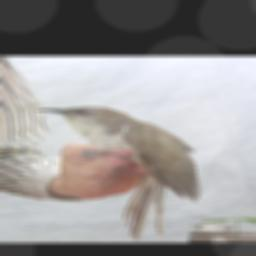Cuckoo: (34, 105, 199, 238)
